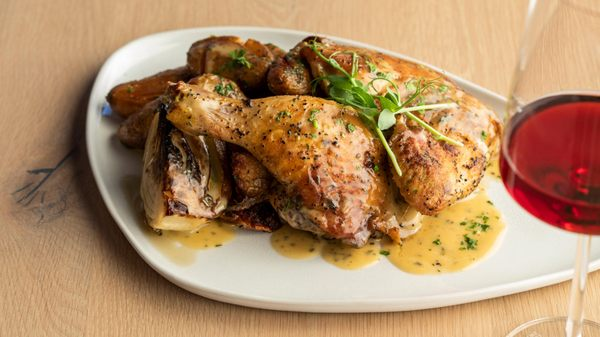curry: (1, 1, 576, 329)
sandwich: (500, 85, 600, 334)
